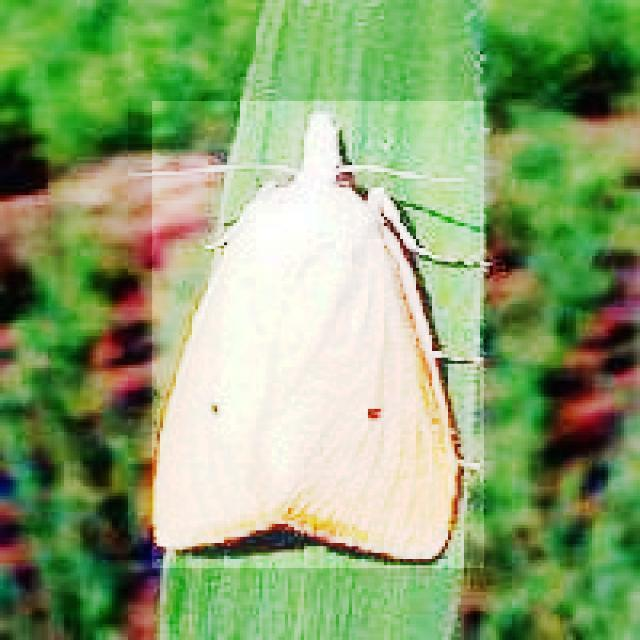stem-borer: (152, 102, 484, 568)
